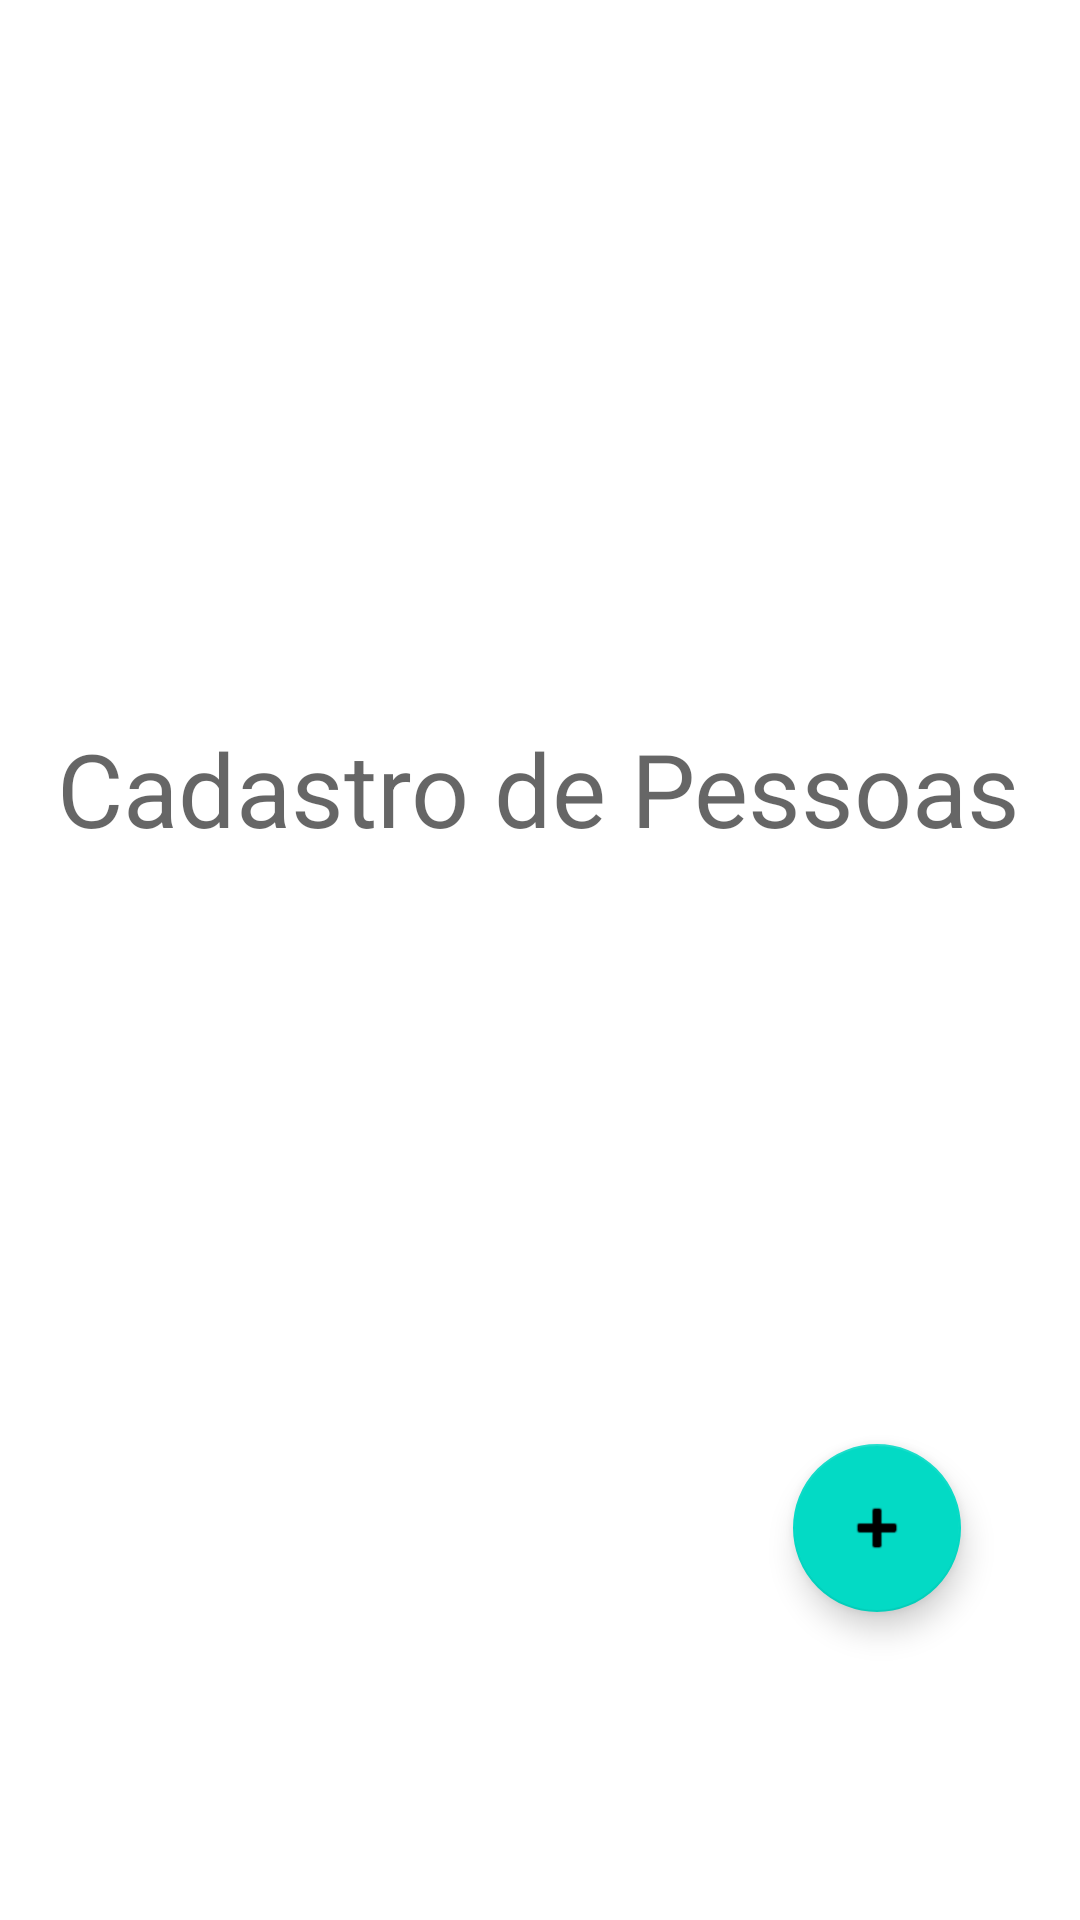

Named icons in this screenshot (1080px×1920px) and their centers, (x=x, y=y):
add: (x=877, y=1528)
